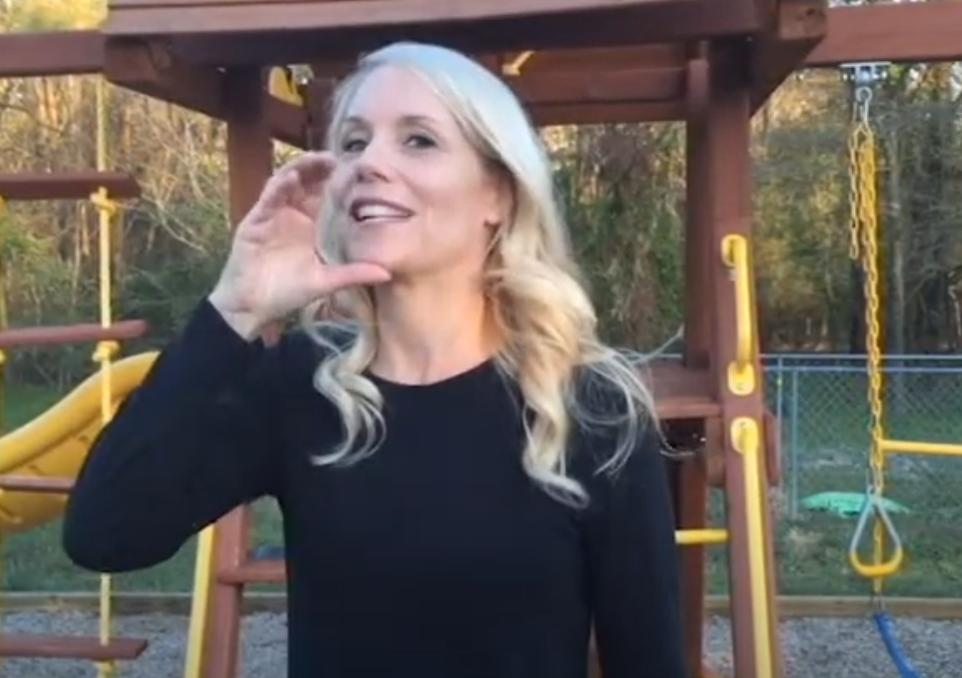drink: (204, 147, 397, 336)
